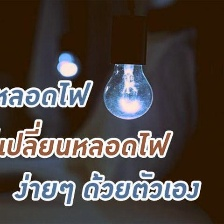light_bulb: (100, 59, 157, 123)
